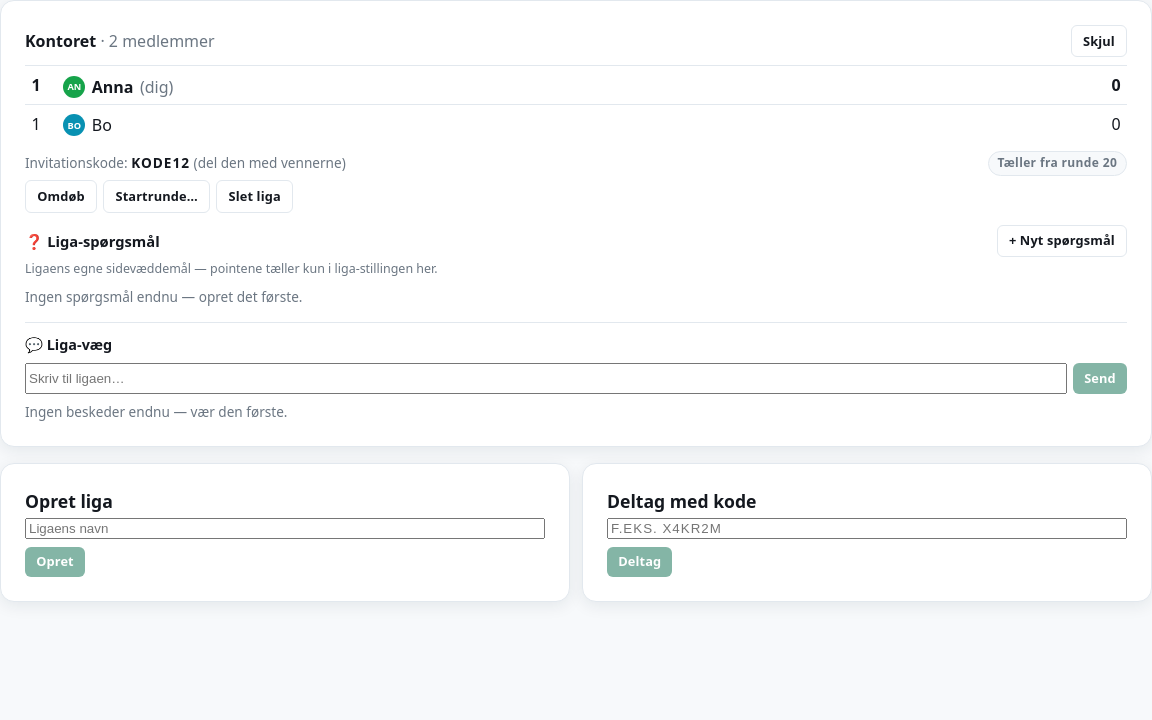
fasekalender: liga-kortet og stillingen siger «dag» › liga-kortet UDEN kalender: «runde» som før
Click the button "Startrunde…": coordinates (157, 196) [103, 180, 210, 213]
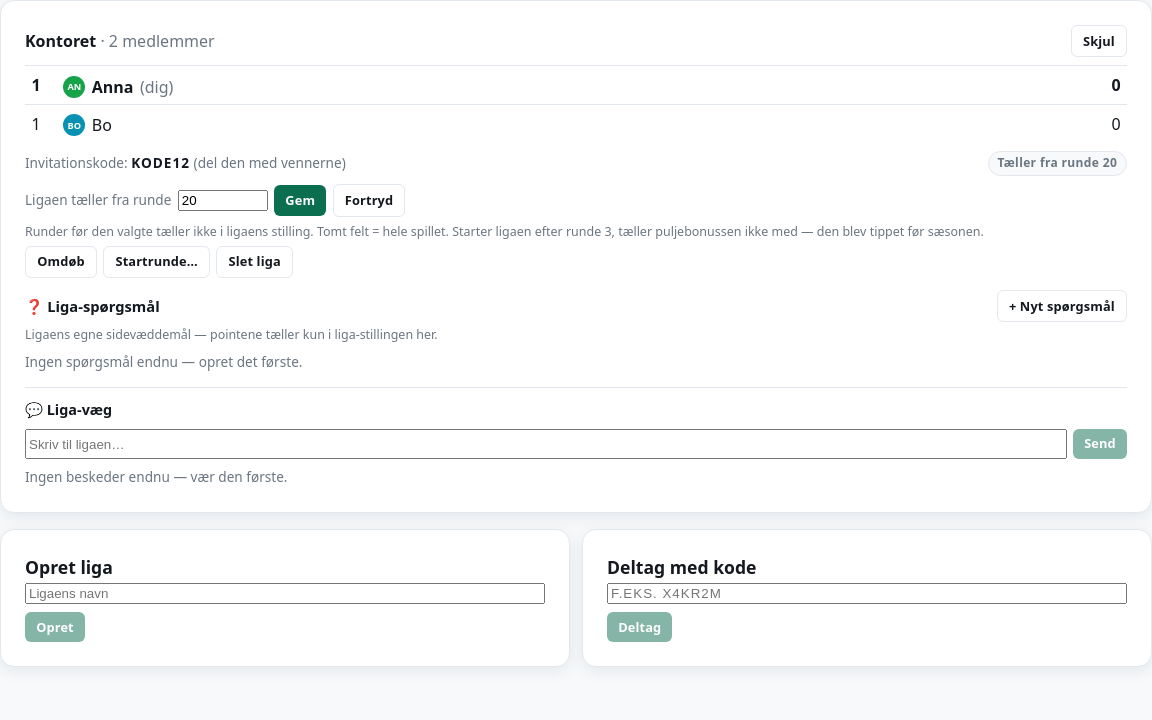
expect the number field labelled "Ligaen tæller fra runde" is shown: met, box [178, 190, 268, 211]
expect the text "Starter ligaen efter runde 3, tæller puljebonussen ikke med" is shown: met, box [25, 223, 1127, 242]
